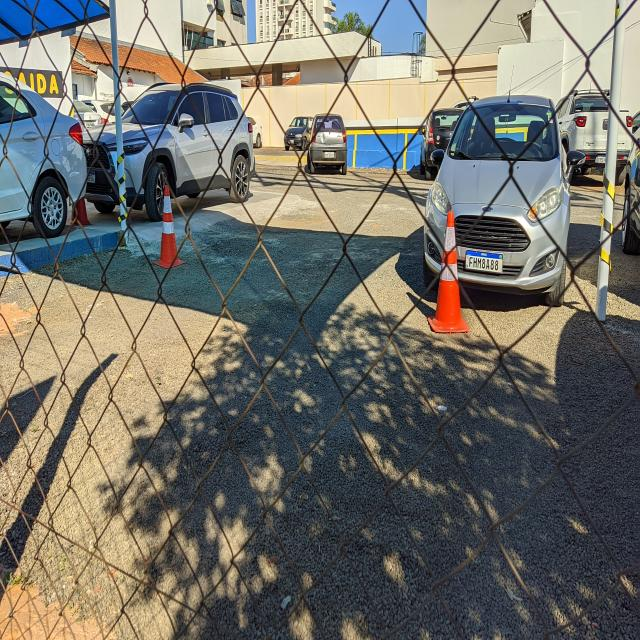cone: (427, 210, 470, 335), (152, 183, 186, 270), (68, 192, 93, 227)
